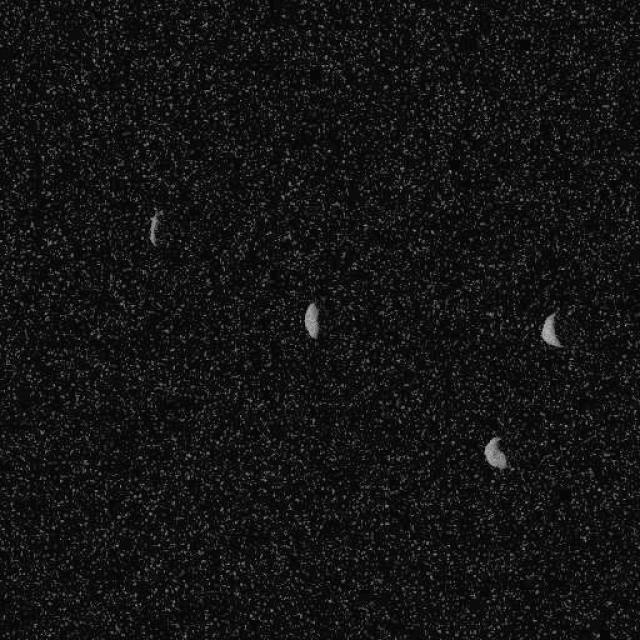D2: (538, 310, 564, 349), (482, 435, 508, 471), (302, 300, 320, 339), (148, 208, 162, 246)
